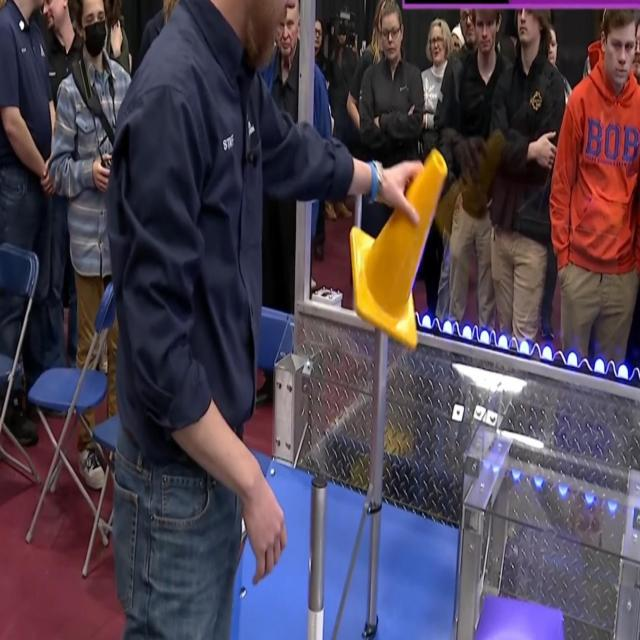frc_cone: (349, 147, 447, 347)
frc_cube: (468, 599, 566, 640)
